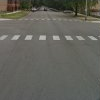crosswalk: (0, 34, 98, 41), (21, 18, 77, 20)
